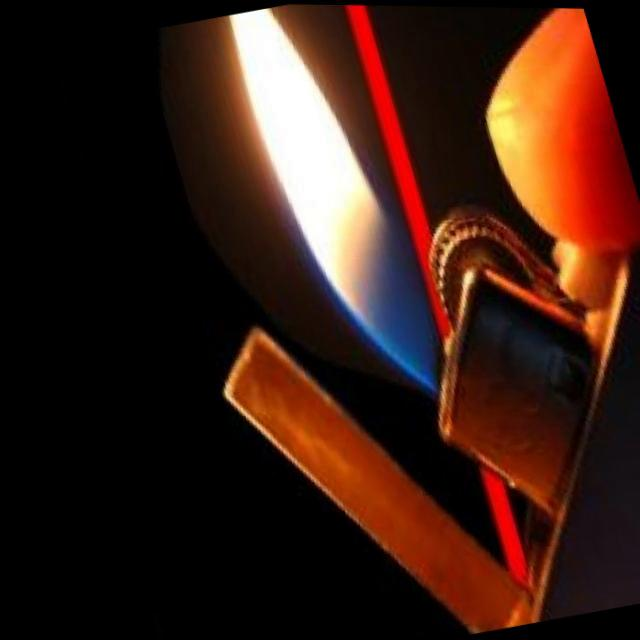fire: (224, 2, 448, 410)
